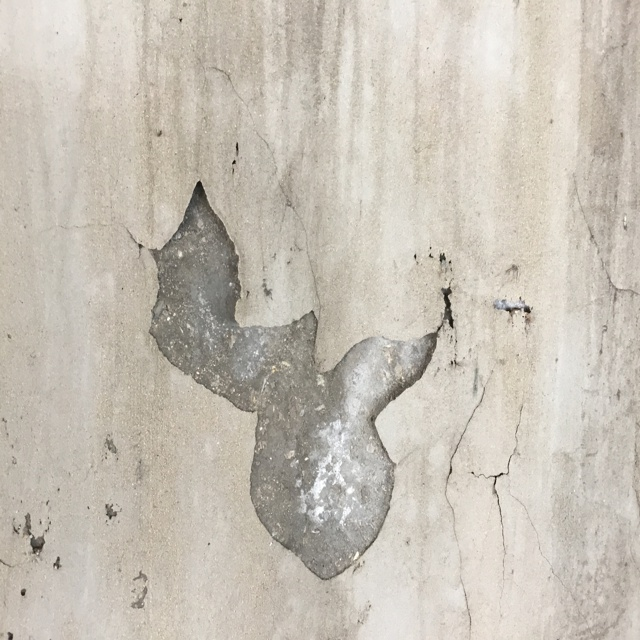spall: (137, 174, 533, 575)
